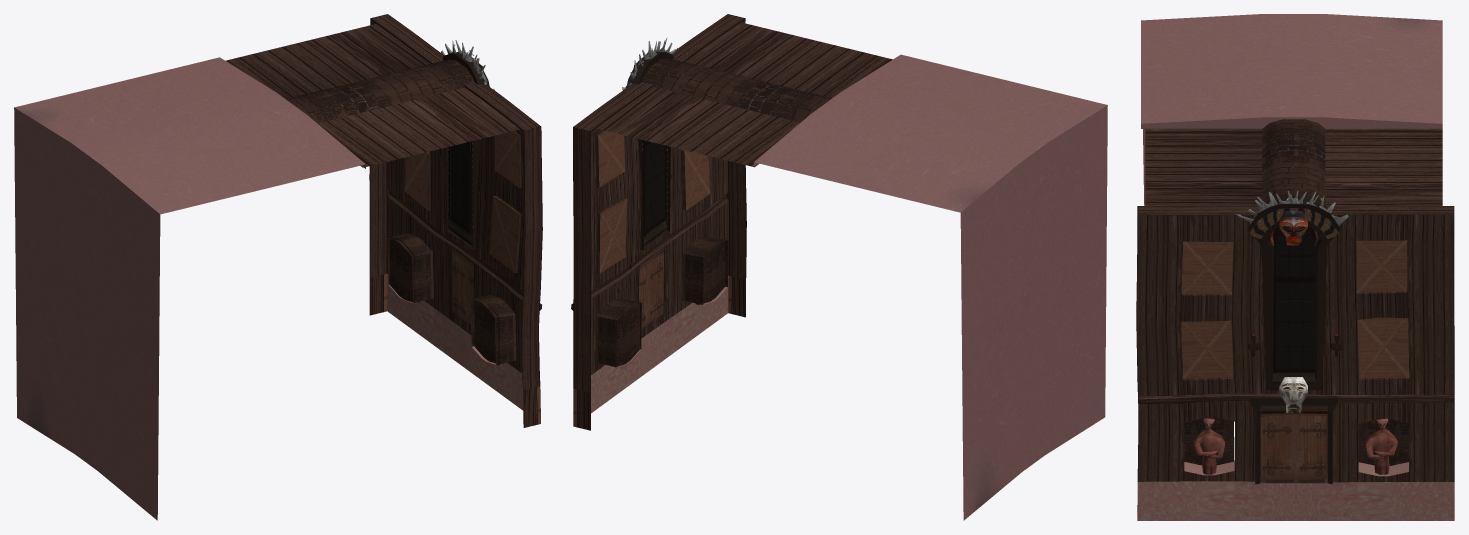
The model's file is TearCollector.fbx.
The picture shows the model from 3 angles, left to right: view 1: azimuth 30°, elevation 25°; view 2: azimuth 150°, elevation 25°; view 3: azimuth 270°, elevation 25°; orthographic projection. The views are drawn at different scales.
Parts seen in each view (by area): view 1: roof, front_wall, behindStatueWall, window_middle, Front, door; view 2: roof, front_wall, behindStatueWall, window_middle, Front, door; view 3: front_wall, roof, Front, window_middle, door, behindStatueWall, StatueRight, StatueLeft3, SkullBovenDeur, SkullBovenDeur1, spikes.
Part boxes in pixels (box(x1,y1,x2,y2)): roof: box(14, 24, 519, 520); front_wall: box(369, 14, 542, 427); behindStatueWall: box(389, 236, 499, 365); window_middle: box(448, 141, 472, 245); Front: box(442, 52, 489, 316); door: box(451, 247, 474, 325); roof: box(597, 22, 1107, 520); front_wall: box(571, 14, 746, 430); behindStatueWall: box(615, 238, 726, 367); window_middle: box(642, 140, 667, 246); Front: box(627, 51, 674, 269); door: box(639, 247, 664, 328); front_wall: box(1136, 205, 1454, 520); roof: box(1141, 14, 1442, 206); Front: box(1247, 199, 1340, 484); window_middle: box(1273, 226, 1315, 377); door: box(1260, 413, 1327, 483); behindStatueWall: box(1184, 417, 1408, 465); StatueRight: box(1365, 418, 1397, 474); StatueLeft3: box(1194, 418, 1225, 474); SkullBovenDeur: box(1279, 377, 1307, 412); SkullBovenDeur1: box(1279, 211, 1307, 245); spikes: box(1236, 191, 1348, 226).
Bounding box in the file's own units: 15.28 × 12.18 × 10.32.
